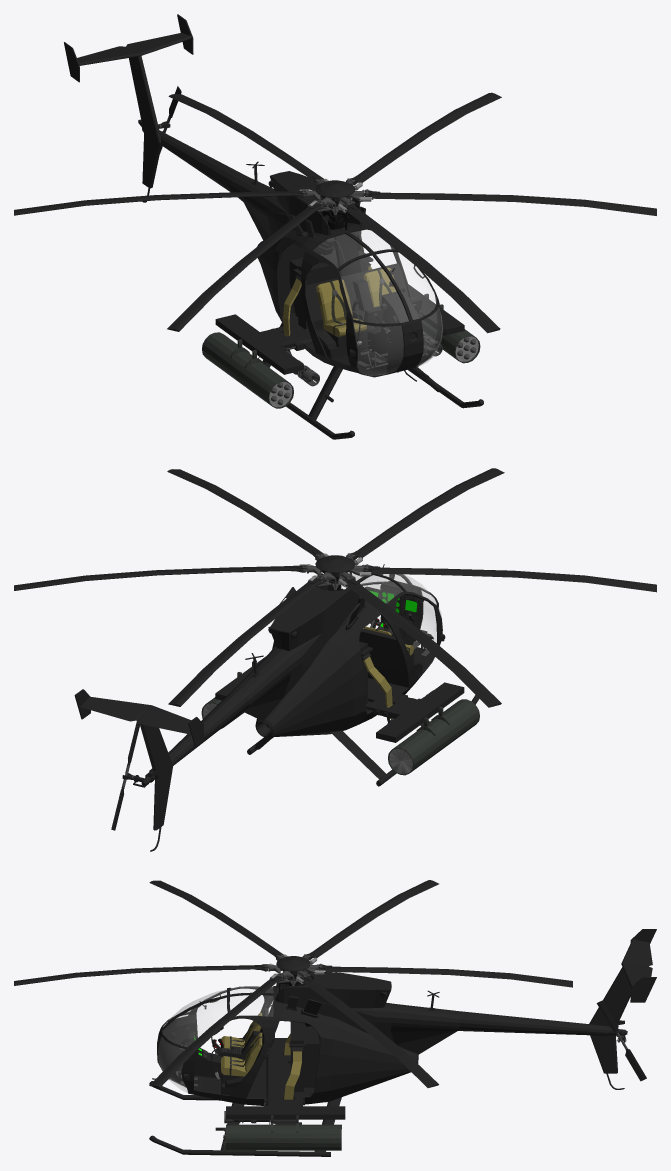
The model's file is little-bird.glb.
3 renders of one model, top to bottom at view 1: azimuth 30°, elevation 25°; view 2: azimuth 150°, elevation 25°; view 3: azimuth 270°, elevation 25°, orthographic. The views are drawn at different scales.
Parts seen in each view (by area): view 1: base_1, helice 1_3, vidrio_0; view 2: base_1, helice 1_3, vidrio_0; view 3: base_1, helice 1_3, vidrio_0, helice 2_2.
Part boxes in pixels (x1=…): base_1: x1=64, y1=14, x2=483, y2=439; helice 1_3: x1=14, y1=92, x2=656, y2=333; vidrio_0: x1=313, y1=230, x2=442, y2=375; base_1: x1=74, y1=564, x2=479, y2=851; helice 1_3: x1=14, y1=468, x2=656, y2=707; vidrio_0: x1=341, y1=572, x2=441, y2=647; base_1: x1=149, y1=929, x2=656, y2=1156; helice 1_3: x1=14, y1=880, x2=572, y2=1088; vidrio_0: x1=158, y1=986, x2=273, y2=1092; helice 2_2: x1=596, y1=1000, x2=646, y2=1081.
Size of the model in its own units: 8.42 by 3.29 by 11.
9 materials, 8 textured.
